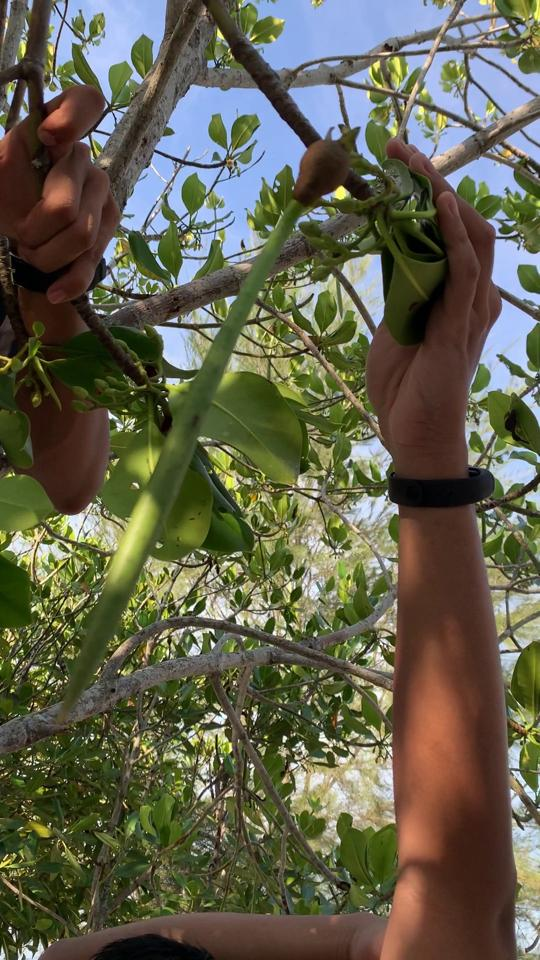mentah: (31, 114, 379, 740)
